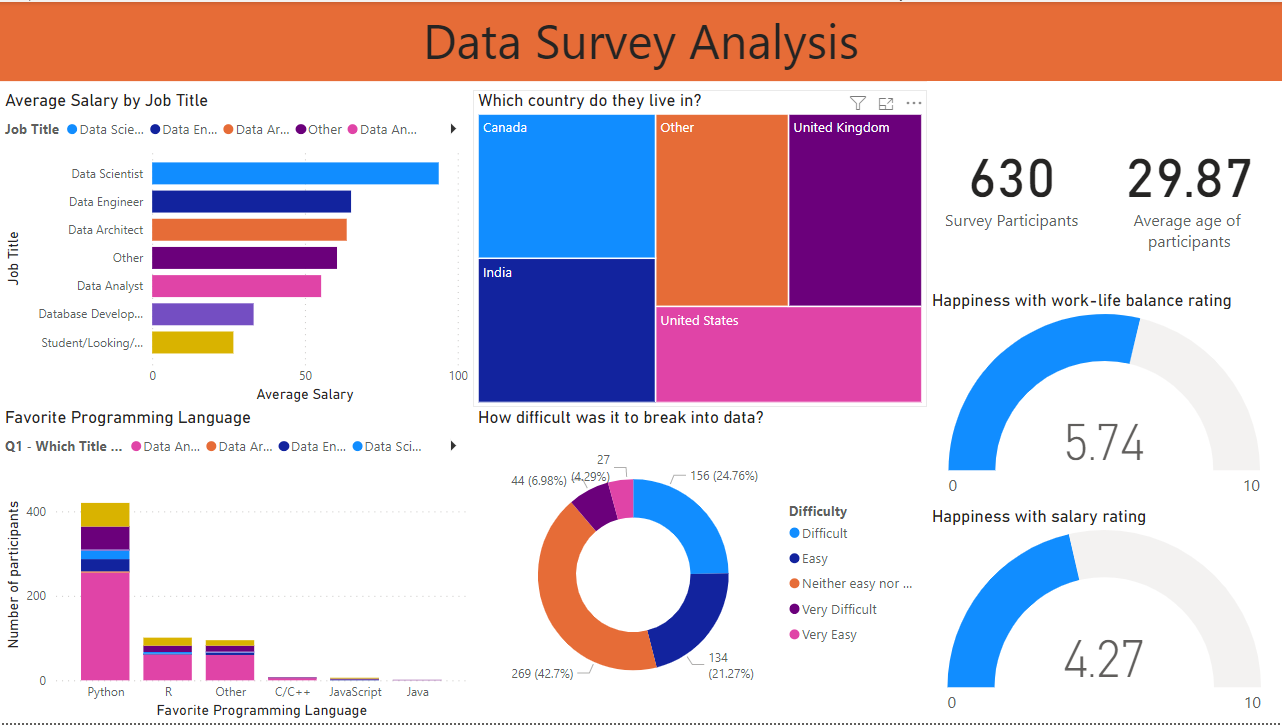

Layout of this report page (visuals, bound fields, positions):
{"tool":"powerbi","page":{"name":"Page 1","canvas":[1280,720],"ordinal":0},"visuals":[{"type":"textbox","box":[0,0,1280,78.8],"z":0},{"type":"card","fields":{"Values":["CountNonNull(Data Professional Survey.Unique ID)"]},"box":[925.6,78.9,168.7,200.7],"z":1},{"type":"card","fields":{"Values":["Avg(Data Professional Survey.Q10 - Current Age)"]},"box":[1094.3,78.9,185.7,200.7],"z":2},{"type":"barChart","title":"Average Salary by Job Title","fields":{"Category":["Data Professional Survey.Q1 - Which Title Best Fits your Current Role?.1"],"Y":["Avg(Data Professional Survey.Average Salary)"],"Series":["Data Professional Survey.Q1 - Which Title Best Fits your Current Role?.1"]},"box":[0,87.9,472.3,316.5],"z":3},{"type":"columnChart","title":"Favorite Programming Language","fields":{"Category":["Data Professional Survey.Q5 - Favorite Programming Language.1"],"Y":["CountNonNull(Data Professional Survey.Unique ID)"],"Series":["Data Professional Survey.Q1 - Which Title Best Fits your Current Role?.1"]},"box":[0,404.4,472.3,315.5],"z":4},{"type":"treemap","title":"Which country do they live in?","fields":{"Group":["Data Professional Survey.Q11 - Which Country do you live in?.1"],"Values":["Count(Data Professional Survey.Q11 - Which Country do you live in?.1)"]},"box":[472.3,87.9,453.3,316.5],"z":5},{"type":"gauge","title":"Happiness with work-life balance rating","fields":{"Y":["Avg(Data Professional Survey.Q6 - How Happy are you in your Current Position with the following? (Work/Life Balance))"],"MinValue":["Min(Data Professional Survey.Q6 - How Happy are you in your Current Position with the following? (Work/Life Balance))1"],"MaxValue":["Max(Data Professional Survey.Q6 - How Happy are you in your Current Position with the following? (Work/Life Balance))2"]},"box":[925.6,287.6,354.4,215.7],"z":6},{"type":"gauge","title":"Happiness with salary rating","fields":{"Y":["Avg(Data Professional Survey.Q6 - How Happy are you in your Current Position with the following? (Salary))"],"MinValue":["Min(Data Professional Survey.Q6 - How Happy are you in your Current Position with the following? (Salary))1"],"MaxValue":["Max(Data Professional Survey.Q6 - How Happy are you in your Current Position with the following? (Salary))2"]},"box":[925.6,503.2,354.4,216.7],"z":7},{"type":"donutChart","title":"How difficult was it to break into data?","fields":{"Y":["CountNonNull(Data Professional Survey.Q7 - How difficult was it for you to break into Data?)"],"Series":["Data Professional Survey.Q7 - How difficult was it for you to break into Data?"]},"box":[472.3,404.4,453.3,315.5],"z":8}]}

Visuals, with their boxes in screenshot pixels (x1, y1, x2, y2), scaled from the page's 1280x720 canvas onto the 1282x726 screenshot:
textbox: x1=0 y1=0 x2=1281 y2=79
card - CountNonNull(Data Professional Survey.Unique ID): x1=927 y1=80 x2=1096 y2=282
card - Avg(Data Professional Survey.Q10 - Current Age): x1=1096 y1=80 x2=1281 y2=282
"Average Salary by Job Title" barChart: x1=0 y1=89 x2=473 y2=408
"Favorite Programming Language" columnChart: x1=0 y1=408 x2=473 y2=725
"Which country do they live in?" treemap: x1=473 y1=89 x2=927 y2=408
"Happiness with work-life balance rating" gauge: x1=927 y1=290 x2=1281 y2=507
"Happiness with salary rating" gauge: x1=927 y1=507 x2=1281 y2=725
"How difficult was it to break into data?" donutChart: x1=473 y1=408 x2=927 y2=725
